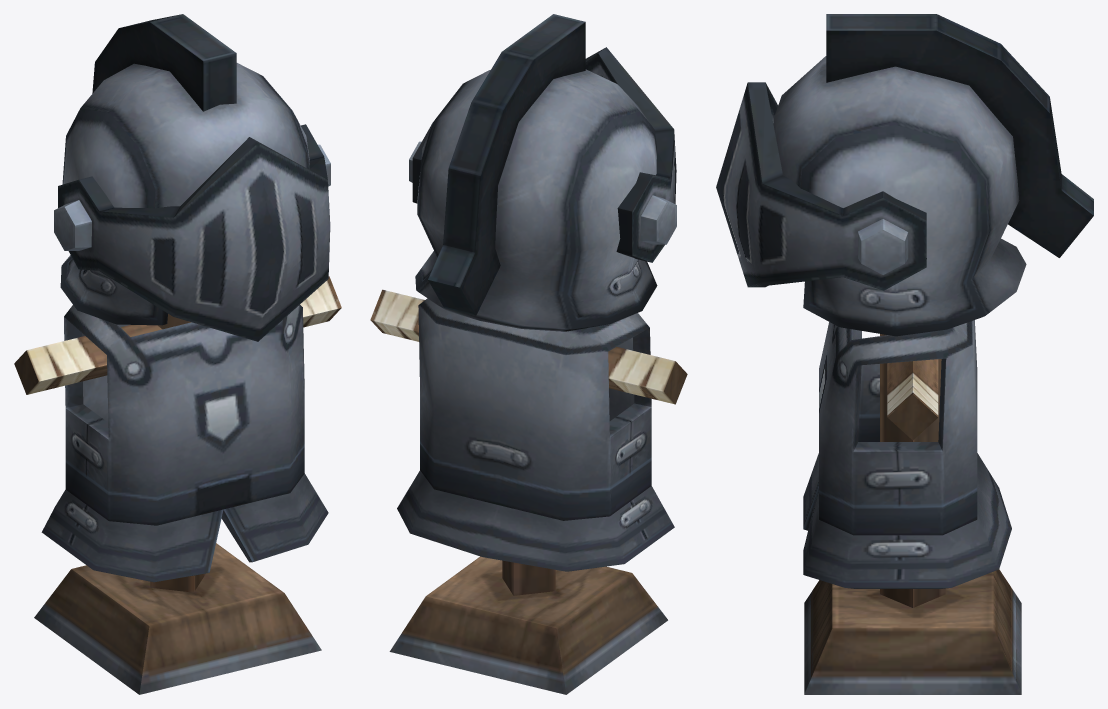
The model's file is D42_ARMOR_M.obj.
3 views of the same model, side by side, from view 1: azimuth 30°, elevation 25°; view 2: azimuth 150°, elevation 25°; view 3: azimuth 270°, elevation 25° (orthographic). The views are drawn at different scales.
Visible parts, largest first — view 1: D42_ARMOR_M; view 2: D42_ARMOR_M; view 3: D42_ARMOR_M.
Boxes of the visible parts, x1,y1,x2,y2 form: D42_ARMOR_M: (14, 14, 341, 694); D42_ARMOR_M: (370, 14, 687, 694); D42_ARMOR_M: (716, 14, 1093, 694).
Size of the model in its own units: 0.896 by 1.72 by 0.9385.
Materials: 2 (2 with a texture image).
